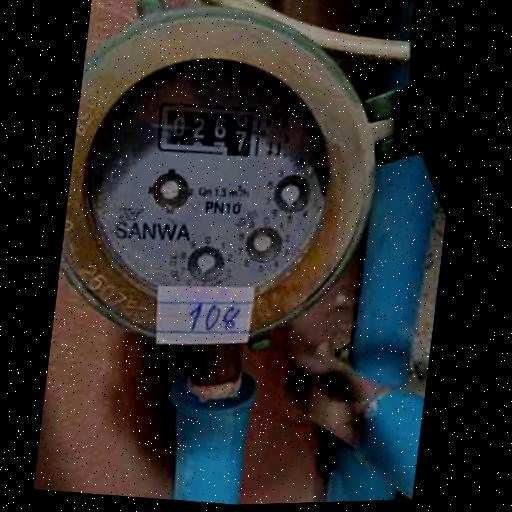0: (165, 110, 190, 145)
2: (187, 111, 212, 146)
6: (209, 113, 232, 148)
7: (226, 113, 254, 157)
border_water_meter_number: (154, 98, 263, 160)
